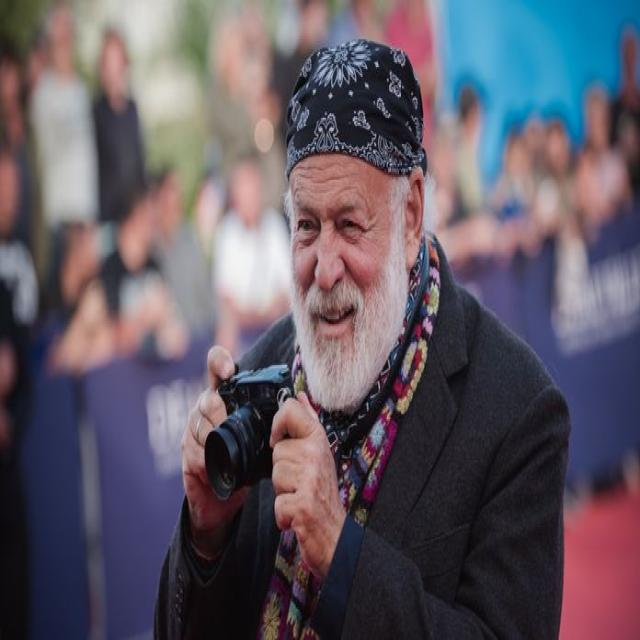human: (152, 40, 568, 640)
